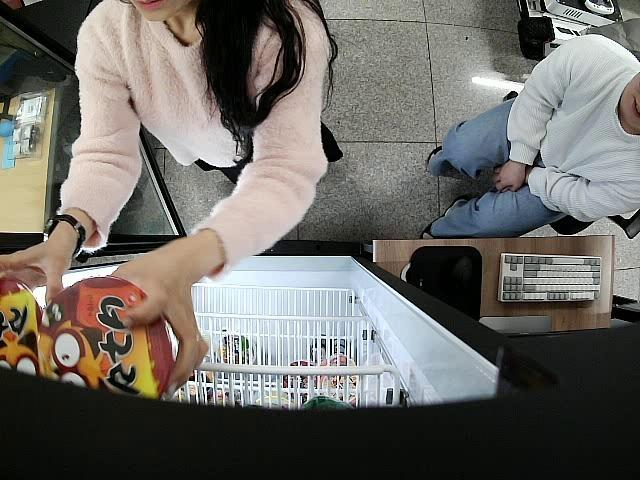05_nuguri_L: (40, 274, 175, 406), (0, 276, 51, 380)
